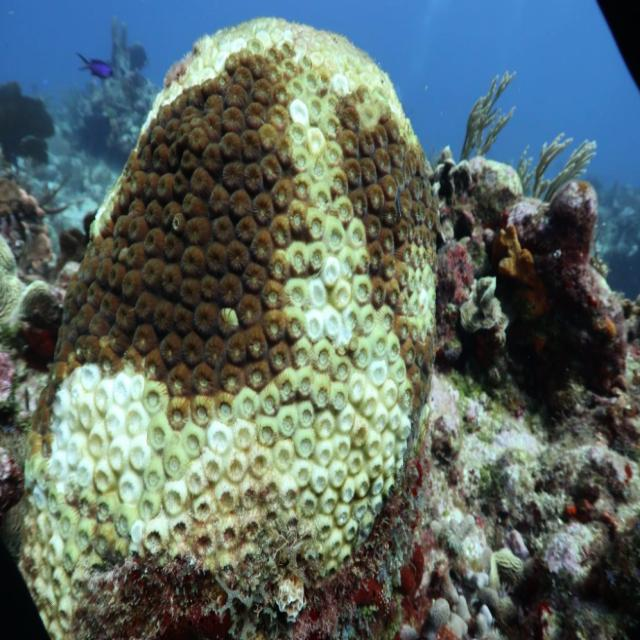Coral: (0, 15, 437, 640)
